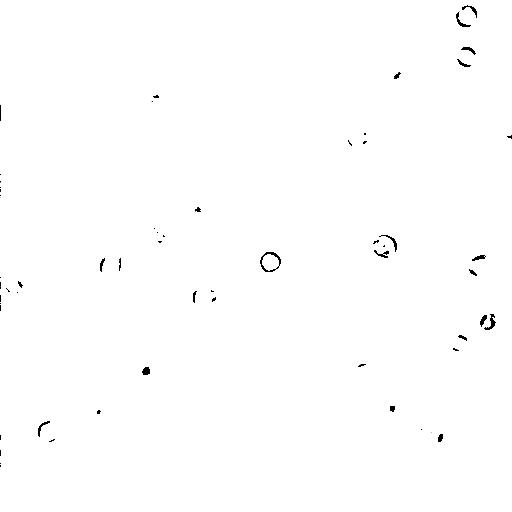micro-algae: (294, 144, 390, 239), (4, 272, 50, 319), (178, 192, 220, 232), (377, 56, 416, 98), (78, 393, 121, 427), (119, 186, 160, 219), (181, 482, 220, 512), (129, 354, 163, 385), (130, 340, 166, 368), (421, 421, 450, 452), (373, 392, 405, 420), (98, 251, 124, 285), (336, 286, 369, 312), (371, 232, 401, 260), (342, 361, 380, 383), (466, 253, 497, 279), (409, 319, 436, 348), (113, 9, 140, 35), (36, 419, 64, 444), (190, 285, 220, 308), (454, 4, 480, 28), (259, 249, 283, 274), (344, 127, 369, 149), (446, 333, 473, 353), (456, 45, 479, 68), (145, 224, 167, 245), (478, 311, 499, 332), (5, 276, 24, 297), (499, 116, 512, 142), (2, 436, 15, 462), (149, 0, 174, 7), (2, 103, 9, 123)
